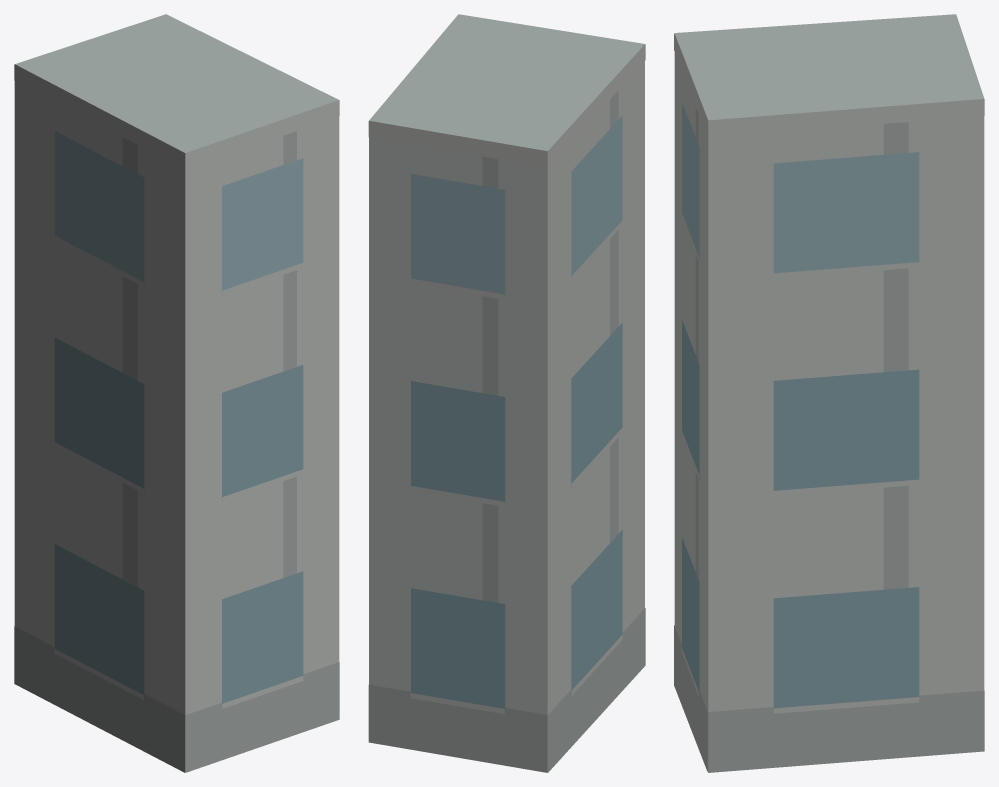
Rendered from survey-upis-33033845.glb.
3 views of the same model, side by side, from view 1: azimuth 30°, elevation 25°; view 2: azimuth 150°, elevation 25°; view 3: azimuth 270°, elevation 25° (orthographic). The views are drawn at different scales.
Parts seen in each view (by area): view 1: survey-upis-33033845.tmp; view 2: survey-upis-33033845.tmp; view 3: survey-upis-33033845.tmp.
Part boxes in pixels (bbox=[...]): survey-upis-33033845.tmp: bbox=[14, 14, 339, 772]; survey-upis-33033845.tmp: bbox=[368, 14, 645, 772]; survey-upis-33033845.tmp: bbox=[674, 14, 984, 772].
Size of the model in its own units: 3.21 by 9.15 by 3.95.
